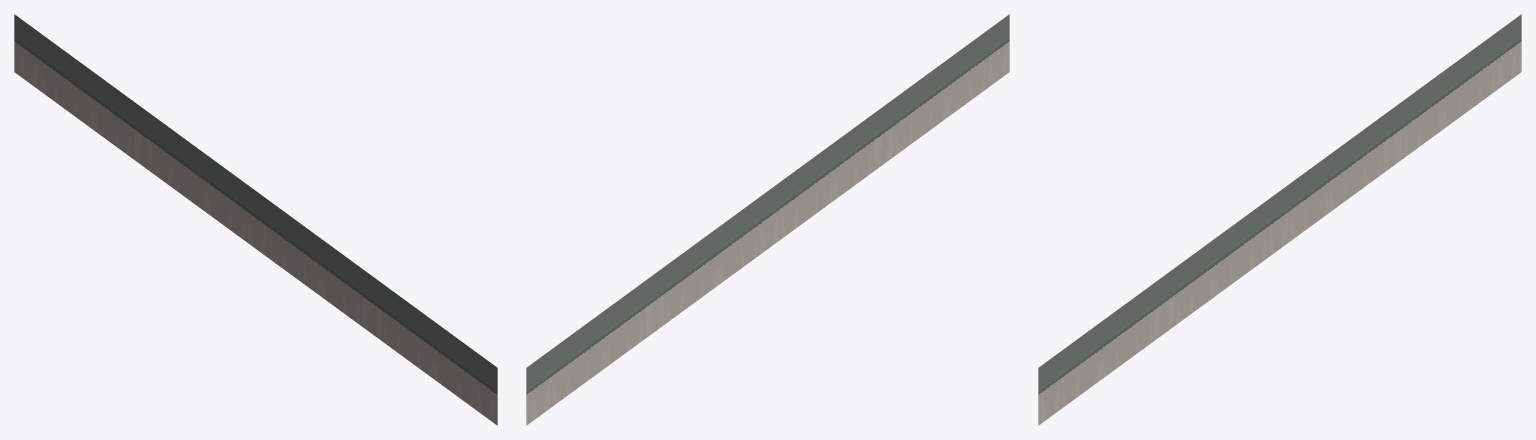
The model's file is kd_stage_135c43_4_92_bounded_piece_6.glb.
3 views of the same model, side by side, from view 1: azimuth 30°, elevation 25°; view 2: azimuth 150°, elevation 25°; view 3: azimuth 330°, elevation 25° (orthographic).
Visible parts, largest first — view 1: kd_stage_135c43_4_92_bounded_piece_6; view 2: kd_stage_135c43_4_92_bounded_piece_6; view 3: kd_stage_135c43_4_92_bounded_piece_6.
Part boxes in pixels (bbox=[...]): kd_stage_135c43_4_92_bounded_piece_6: bbox=[14, 14, 497, 425]; kd_stage_135c43_4_92_bounded_piece_6: bbox=[526, 14, 1009, 425]; kd_stage_135c43_4_92_bounded_piece_6: bbox=[1038, 14, 1521, 425].
Size of the model in its own units: 0 by 0.1 by 1.51.
Materials: 1 (1 with a texture image).
